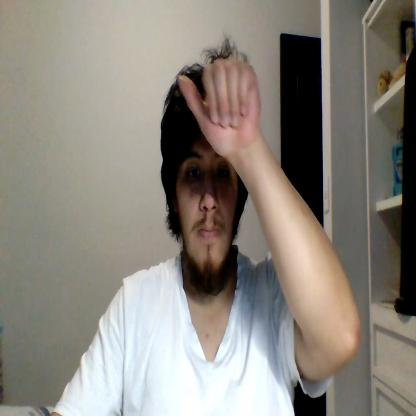A: (178, 59, 261, 157)
